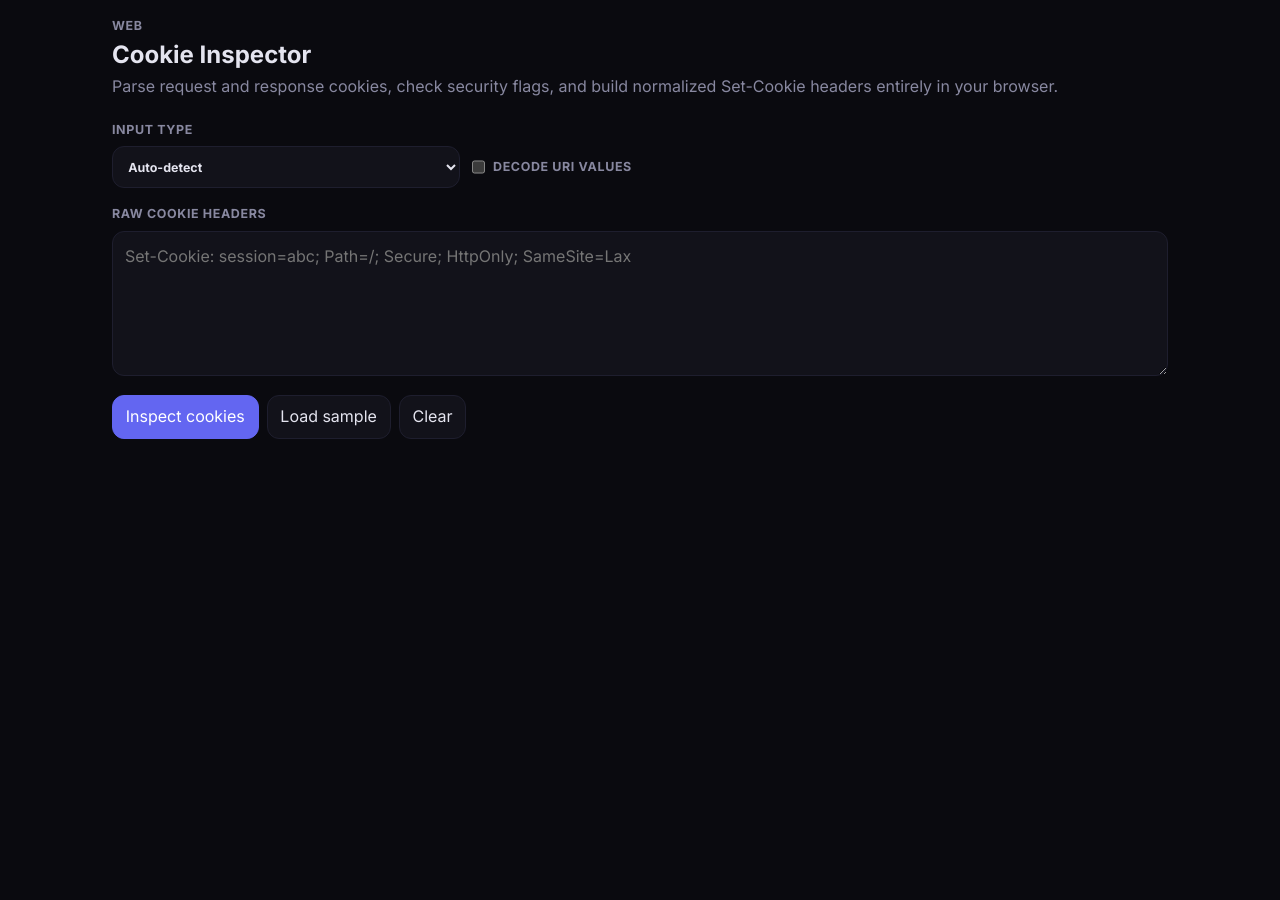
Scenario: CookieTool › displays actionable warning badges for prefix and SameSite violations
The image size is (1280, 900).
Step 1. Replace the text in the text box named "Raw cookie header input" with "Set-Cookie: __Host-session=abc; Domain=.example.com; Path=/app; SameSite=None" → (640, 303), box [112, 231, 1168, 376]
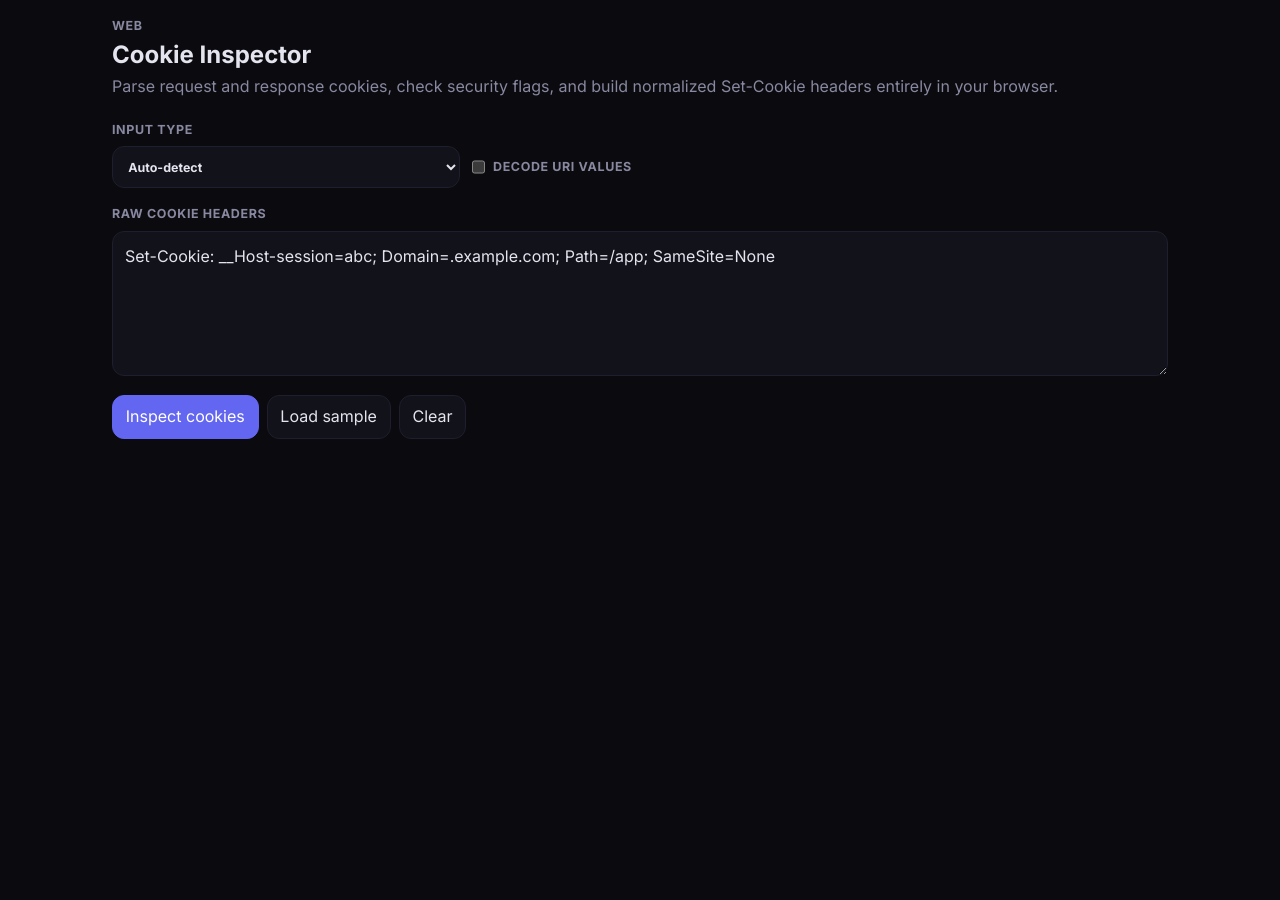
Step 2. Click the button "Inspect cookies" → click(185, 417), box [112, 395, 258, 439]
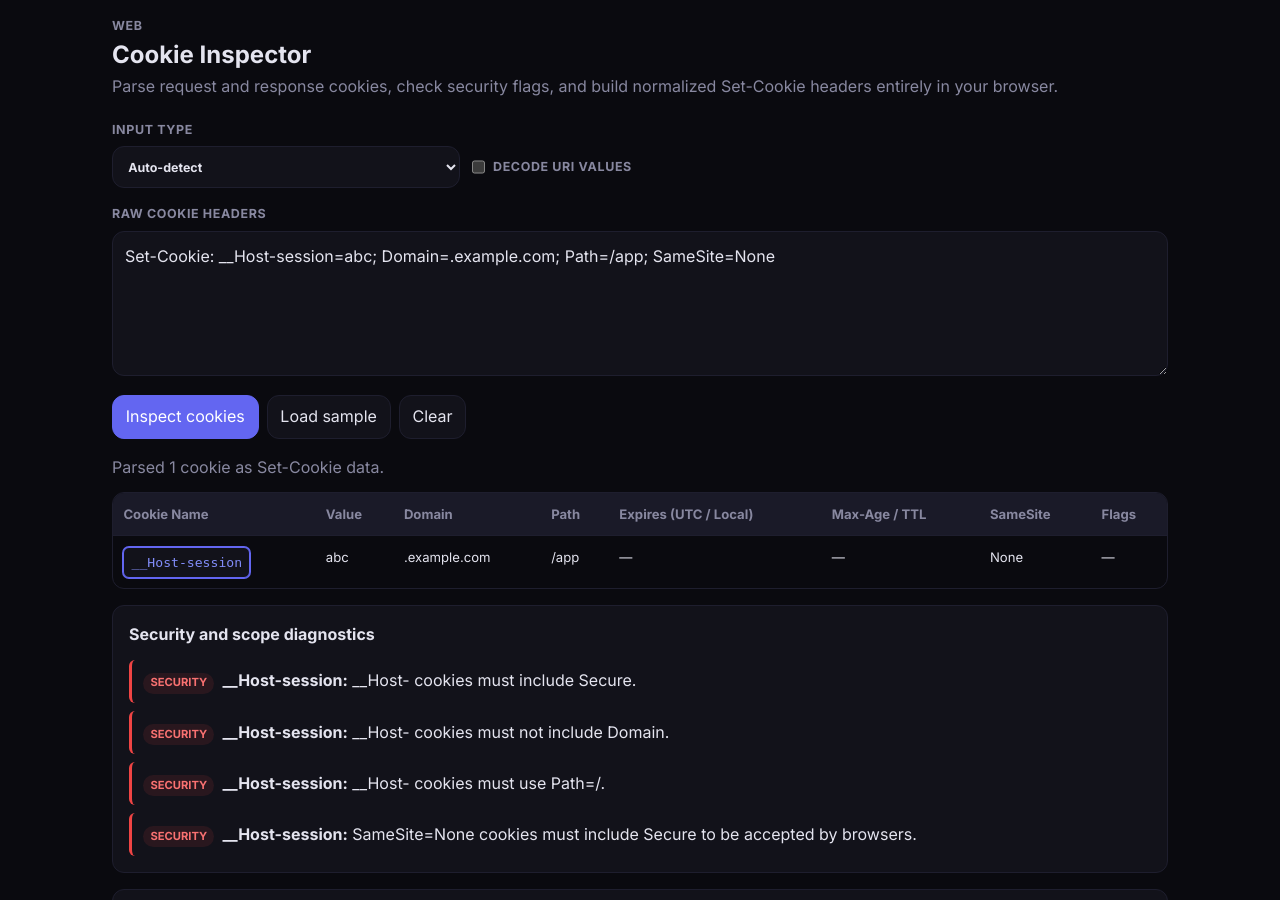
Now the text "__Host- cookies must include Secure." is shown 2 times
Now the text "__Host- cookies must not include Domain." is shown 2 times
Now the text "__Host- cookies must use Path=/." is shown 2 times
